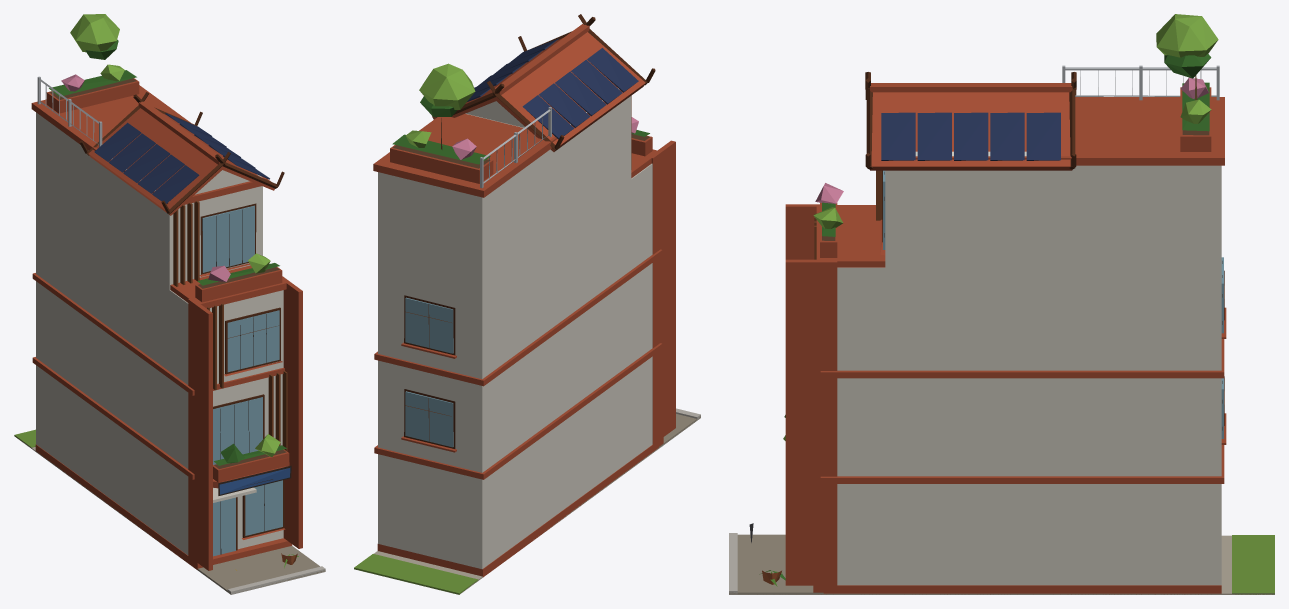
File: bay2_mid.glb
3 renders of one model, left to right at view 1: azimuth 30°, elevation 25°; view 2: azimuth 150°, elevation 25°; view 3: azimuth 270°, elevation 25°, orthographic. The views are drawn at different scales.
Parts seen in each view (by area): view 1: body; view 2: body; view 3: body.
Part boxes in pixels (left/top/right/bottom): body: left=14, top=14, right=325, bottom=594; body: left=354, top=14, right=700, bottom=594; body: left=729, top=14, right=1274, bottom=594.
Size of the model in its own units: 5.23 by 17.63 by 15.9.
